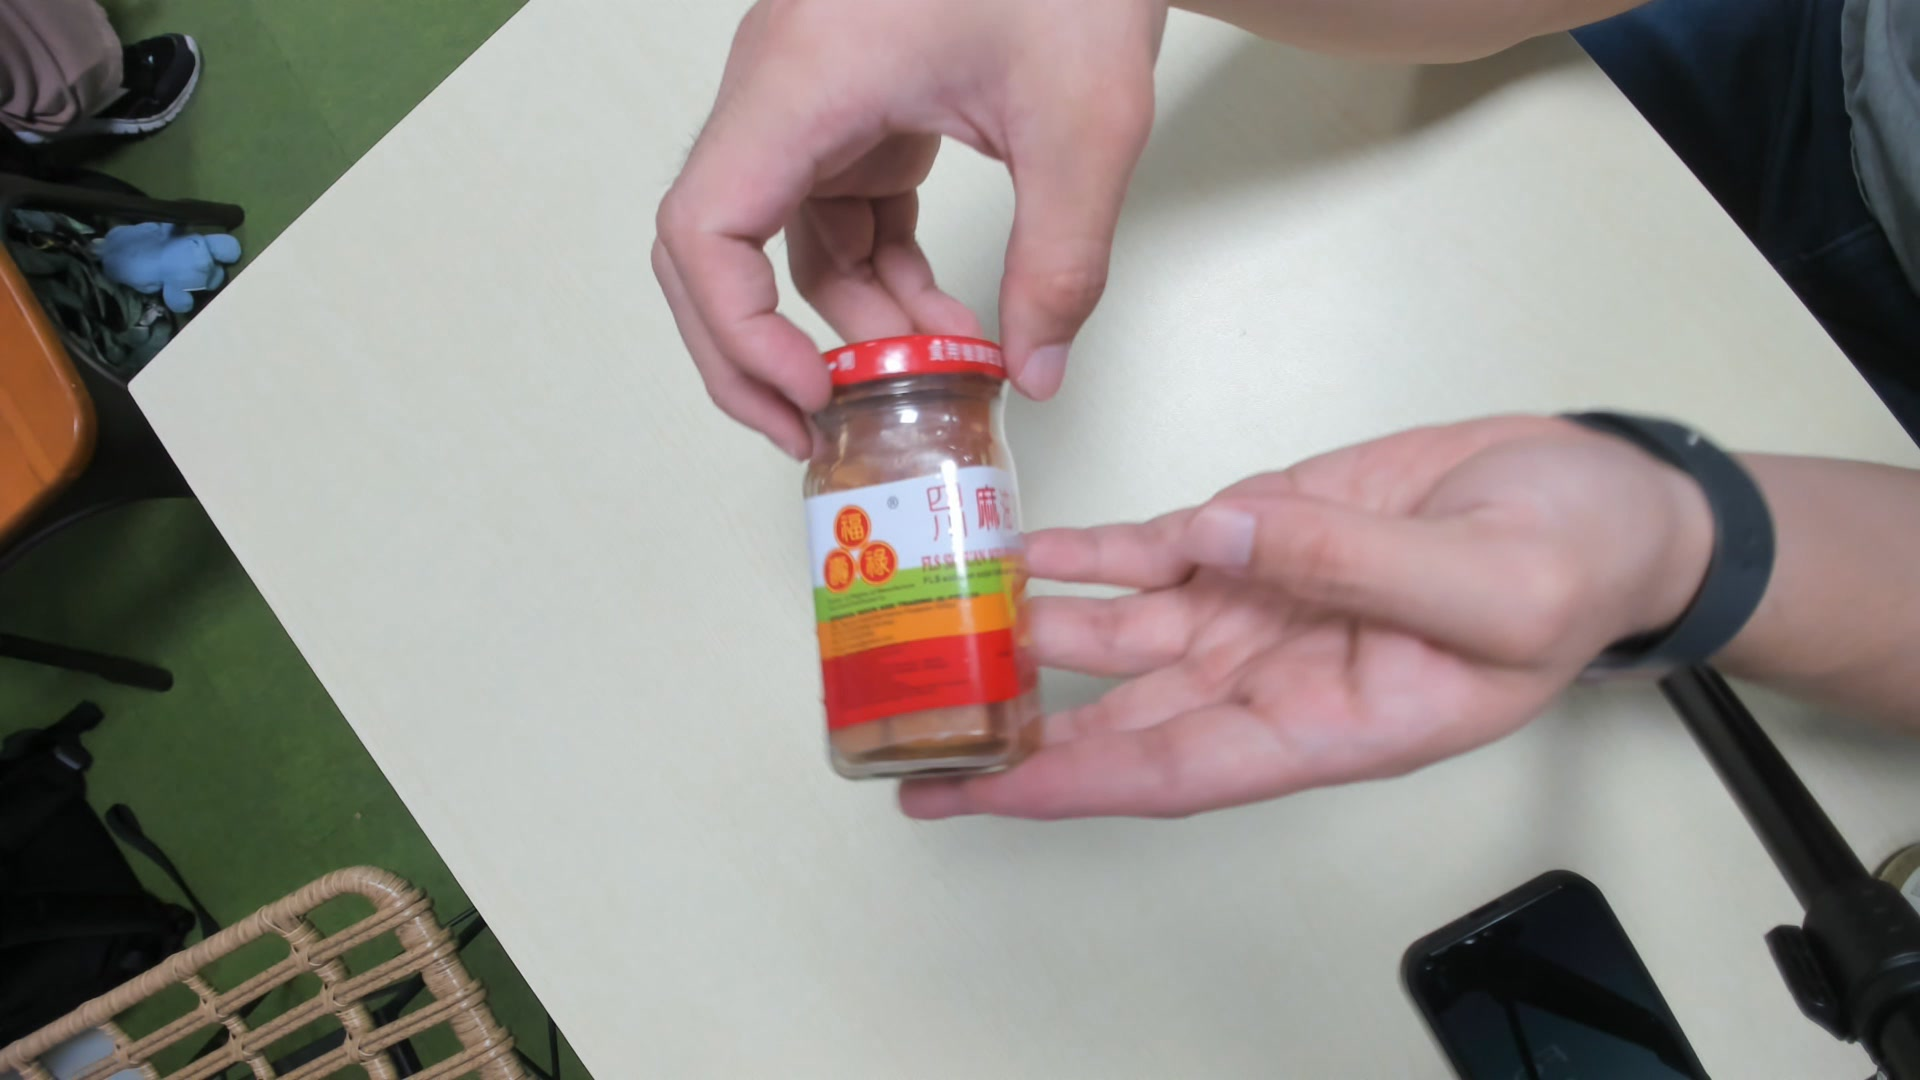OtherSauceDressing_100-199g_NonHalal_NonHealthy: (803, 334, 1043, 782)
